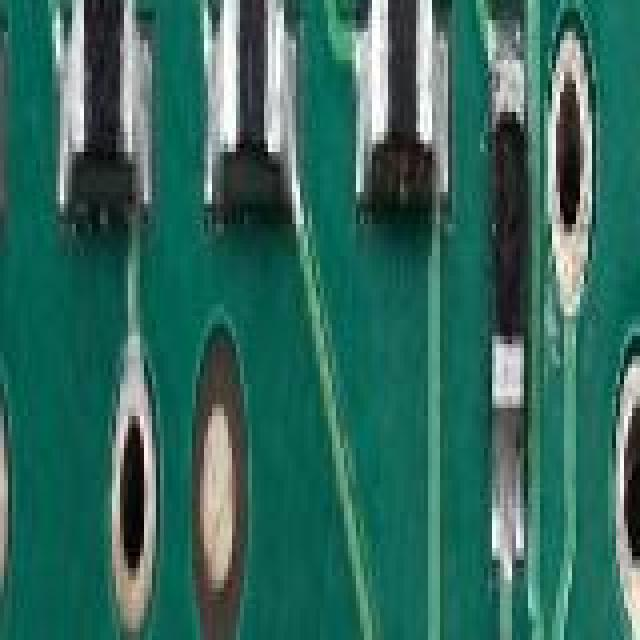resistor: (368, 0, 432, 228), (220, 0, 280, 204), (488, 64, 516, 418), (72, 0, 132, 156)
